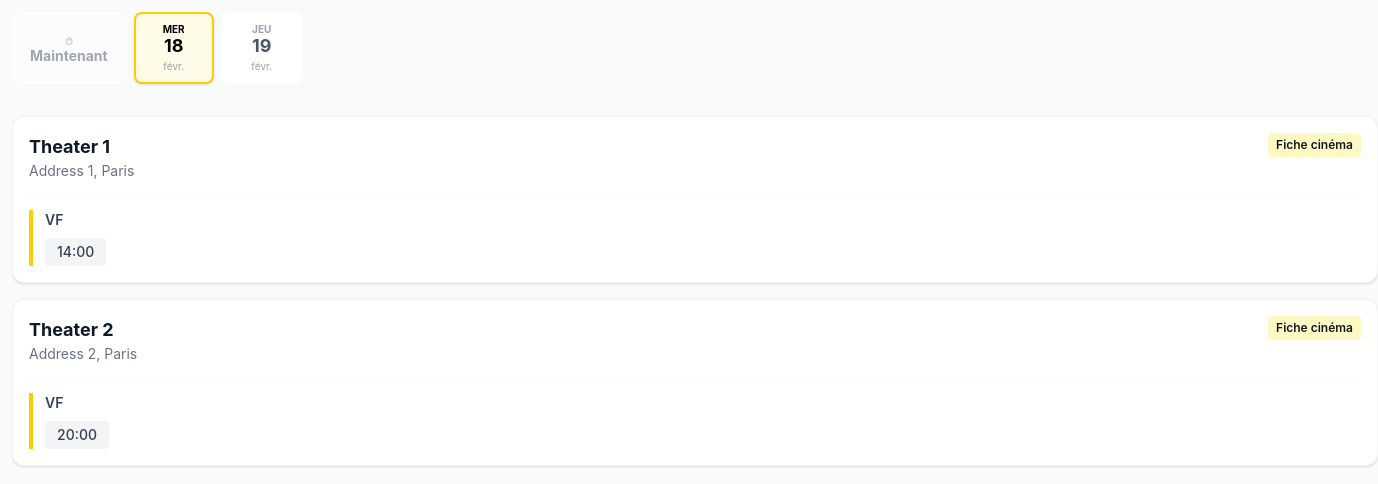
Test: TheaterShowtimes Component › changes showtimes when a different date is selected
The width and height of the screenshot is (1378, 484).
Click the button "19": (262, 48) [222, 12, 302, 84]
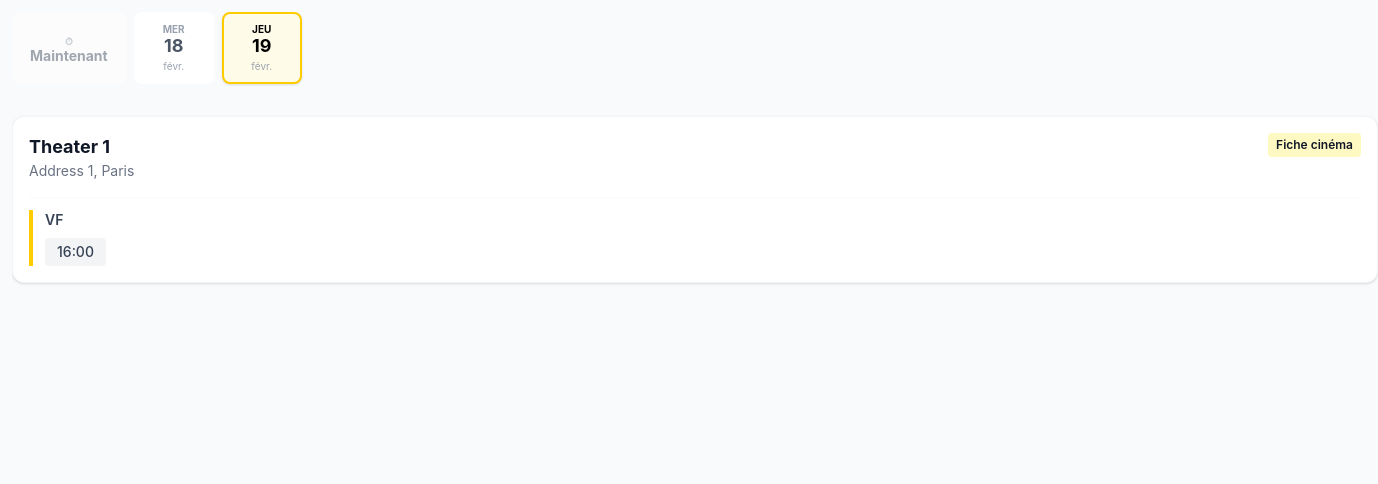
expect the link "Theater 2" is gone: met
expect the button "16:00" is shown: met, box [45, 238, 106, 266]
expect the button "14:00" is gone: met
